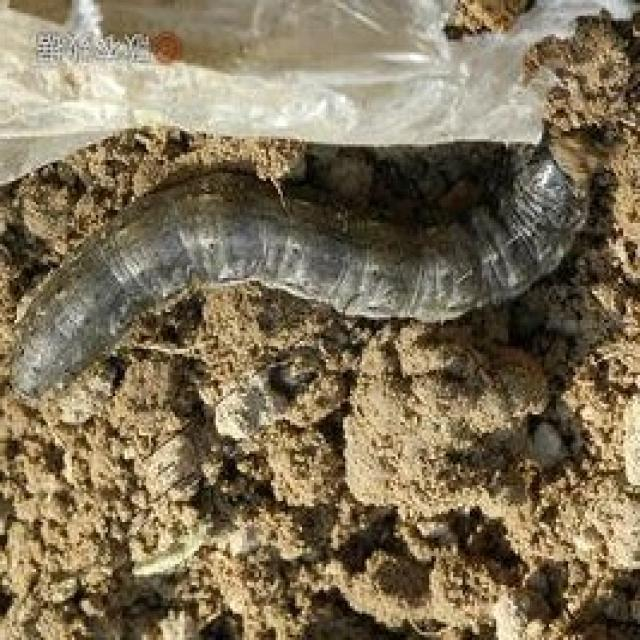black cutworm: (11, 122, 605, 405)
